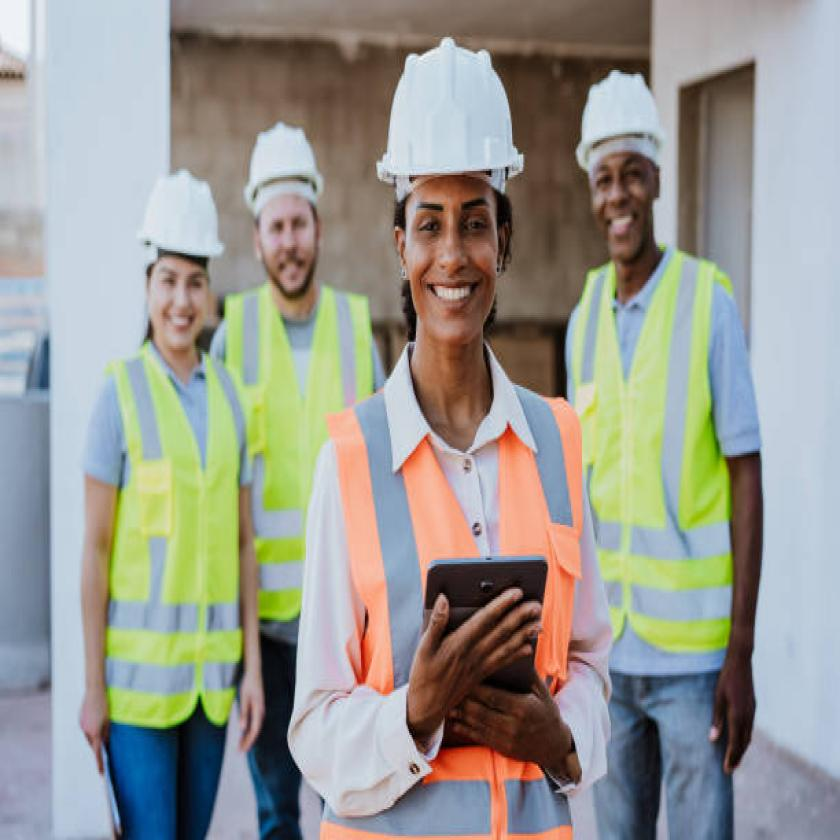Con_casco: (368, 21, 535, 379), (568, 53, 681, 283), (118, 148, 232, 369), (237, 96, 343, 313)
